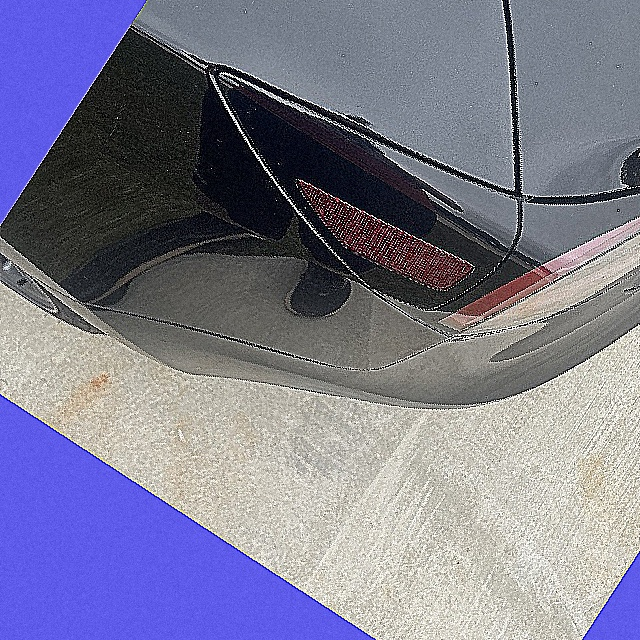reflector: (278, 158, 477, 314)
